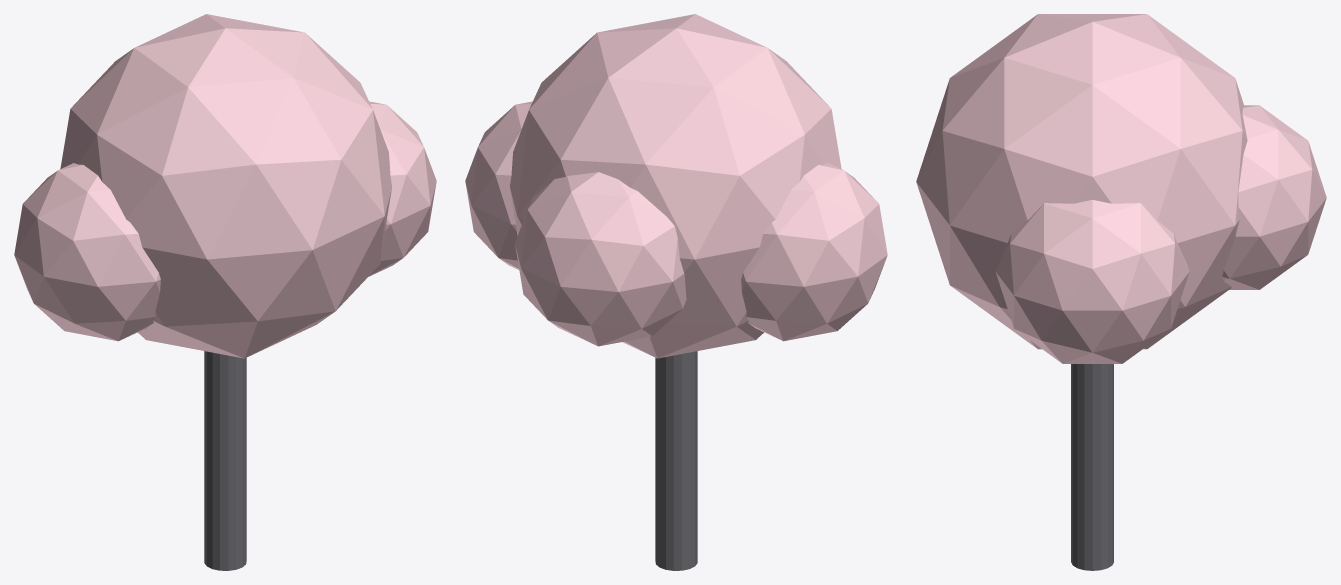
The model's file is tree_large.glb.
The picture shows the model from 3 angles, left to right: view 1: azimuth 30°, elevation 25°; view 2: azimuth 150°, elevation 25°; view 3: azimuth 270°, elevation 25°; orthographic projection.
Visible parts, largest first — view 1: tree; view 2: tree; view 3: tree.
Part boxes in pixels (box(x1,y1,x2,y2)): tree: box(14, 14, 436, 570); tree: box(465, 14, 887, 570); tree: box(916, 14, 1326, 570).
Bounding box in the file's own units: 4.68 × 6.08 × 4.19.
